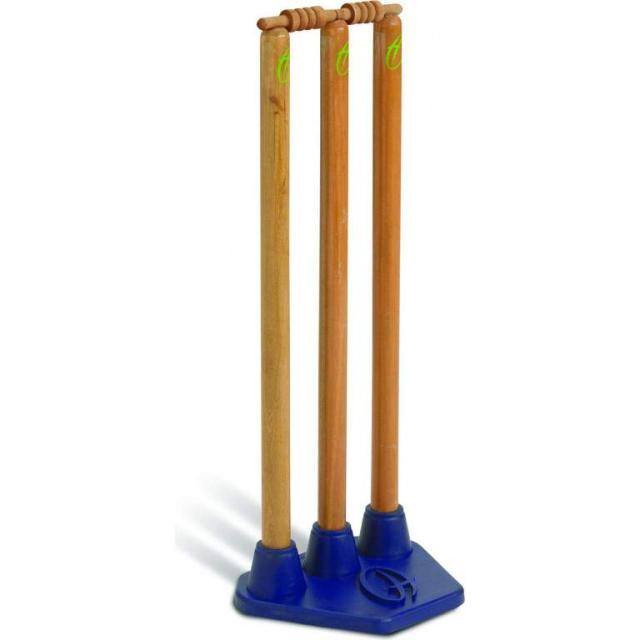stump: (260, 3, 404, 582)
